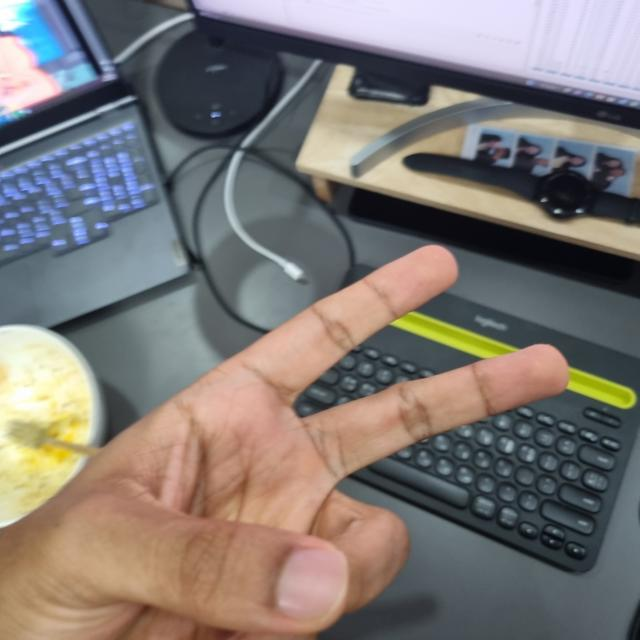Scissors: (1, 249, 570, 639)
